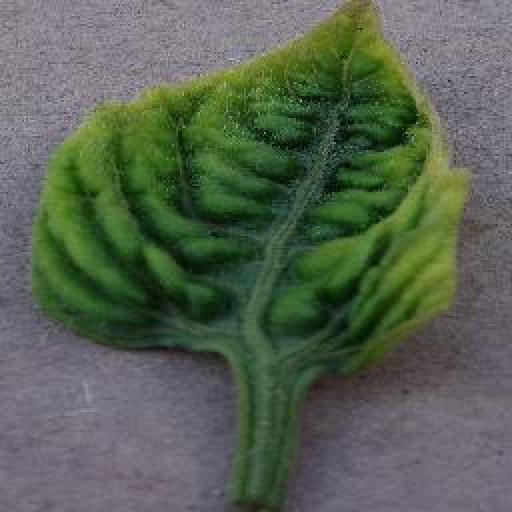Yellow Leaf Curl Virus: (27, 0, 473, 377)
